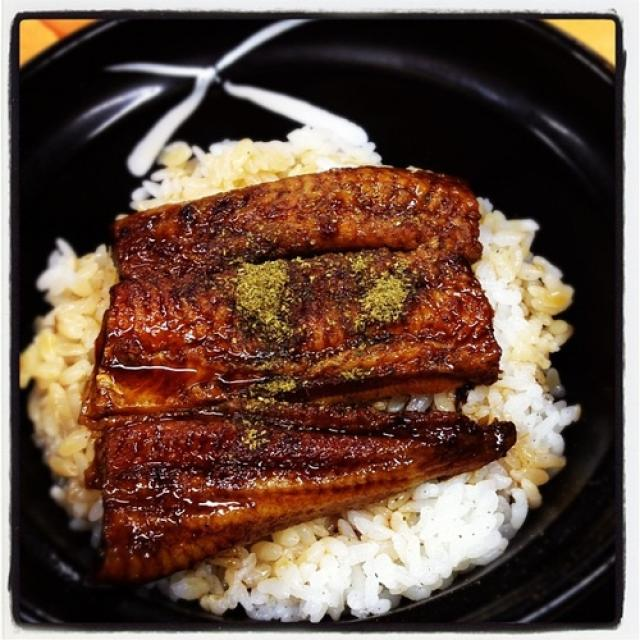熟制海鲜: (19, 25, 616, 616)
